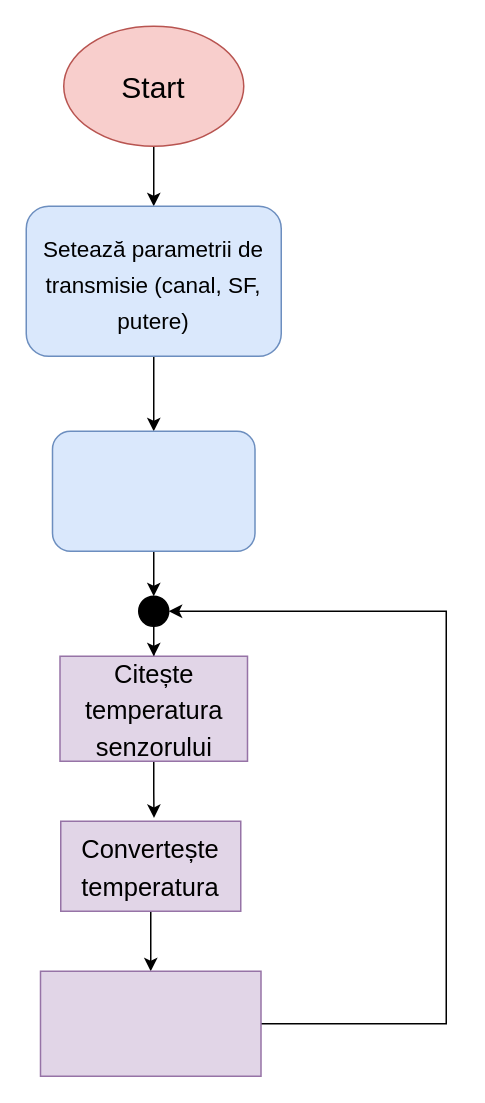
Image size: 485x1103. Some labels were removed from this diagram. Each missing label, with the centre of its shape:
"Inițializează cheile de criptare" belongs at (x=153, y=490).
"Trimite pachetul pe calea ascendentă" belongs at (x=150, y=1023).
